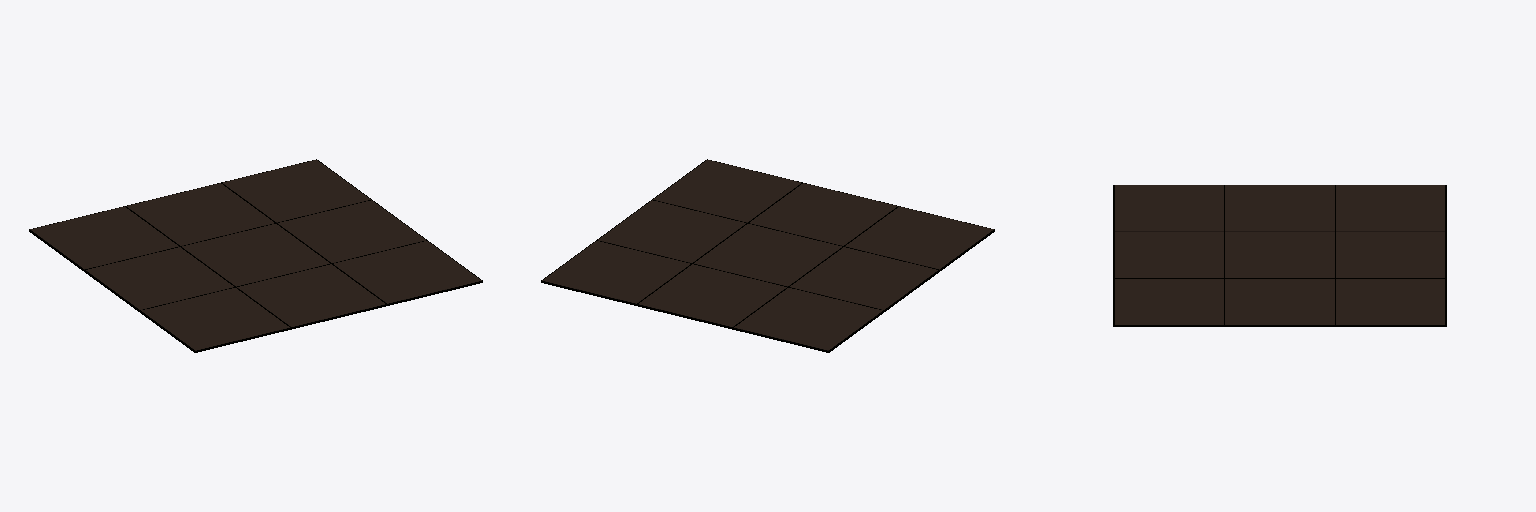
Rendered from CeilingBlend.obj.
3 views of the same model, side by side, from view 1: azimuth 30°, elevation 25°; view 2: azimuth 150°, elevation 25°; view 3: azimuth 270°, elevation 25° (orthographic).
Visible parts, largest first — view 1: Tile3.003_Cube.017, Tile3.004_Cube.018, Tile2.001_Cube.023, Tile6.001_Cube.019, Tile5.001_Cube.020, Tile4.001_Cube.021, Tile.002_Cube.016, Tile.003_Cube.024, Tile3.005_Cube.022, Cube.001_Cube.025; view 2: Tile3.003_Cube.017, Tile3.004_Cube.018, Tile2.001_Cube.023, Tile4.001_Cube.021, Tile.002_Cube.016, Tile6.001_Cube.019, Tile5.001_Cube.020, Tile.003_Cube.024, Tile3.005_Cube.022, Cube.001_Cube.025; view 3: Tile3.005_Cube.022, Tile3.003_Cube.017, Tile3.004_Cube.018, Tile2.001_Cube.023, Tile.003_Cube.024, Tile6.001_Cube.019, Tile5.001_Cube.020, Tile4.001_Cube.021, Tile.002_Cube.016, Cube.001_Cube.025.
Part boxes in pixels (left/top/right/bottom): Tile3.003_Cube.017: left=141, top=288, right=289, bottom=350; Tile3.004_Cube.018: left=30, top=206, right=178, bottom=269; Tile2.001_Cube.023: left=278, top=200, right=425, bottom=262; Tile6.001_Cube.019: left=223, top=160, right=370, bottom=222; Tile5.001_Cube.020: left=126, top=183, right=273, bottom=245; Tile4.001_Cube.021: left=334, top=241, right=481, bottom=303; Tile.002_Cube.016: left=237, top=264, right=384, bottom=326; Tile.003_Cube.024: left=182, top=224, right=329, bottom=286; Tile3.005_Cube.022: left=86, top=247, right=233, bottom=309; Cube.001_Cube.025: left=29, top=159, right=482, bottom=352; Tile3.003_Cube.017: left=845, top=206, right=993, bottom=269; Tile3.004_Cube.018: left=734, top=288, right=882, bottom=350; Tile2.001_Cube.023: left=598, top=200, right=745, bottom=262; Tile4.001_Cube.021: left=653, top=160, right=800, bottom=222; Tile.002_Cube.016: left=750, top=183, right=897, bottom=245; Tile6.001_Cube.019: left=542, top=241, right=689, bottom=303; Tile5.001_Cube.020: left=639, top=264, right=786, bottom=326; Tile.003_Cube.024: left=694, top=224, right=841, bottom=286; Tile3.005_Cube.022: left=790, top=247, right=937, bottom=309; Cube.001_Cube.025: left=541, top=159, right=994, bottom=352; Tile3.005_Cube.022: left=1225, top=185, right=1334, bottom=231; Tile3.003_Cube.017: left=1115, top=185, right=1223, bottom=231; Tile3.004_Cube.018: left=1336, top=185, right=1444, bottom=231; Tile2.001_Cube.023: left=1225, top=279, right=1334, bottom=324; Tile.003_Cube.024: left=1225, top=232, right=1334, bottom=277; Tile6.001_Cube.019: left=1336, top=279, right=1444, bottom=324; Tile5.001_Cube.020: left=1336, top=232, right=1444, bottom=277; Tile4.001_Cube.021: left=1115, top=279, right=1223, bottom=324; Tile.002_Cube.016: left=1115, top=232, right=1223, bottom=277; Cube.001_Cube.025: left=1113, top=185, right=1446, bottom=326.
Size of the model in its own units: 11 by 0.07 by 11.